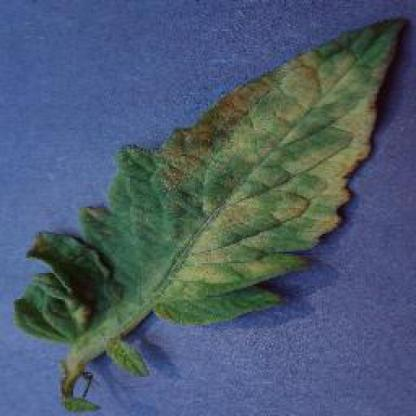Tomato_Leaf_Mold: (92, 18, 408, 322)
